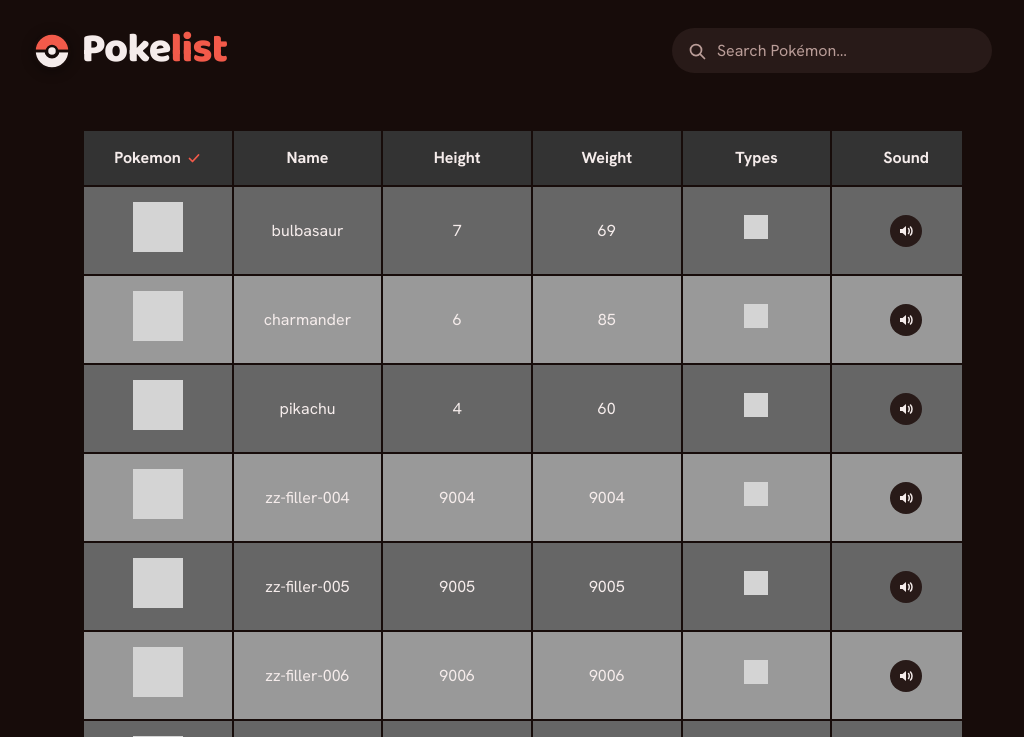
Test: App › renders no data rows when the search matches nothing
Type "nonexistent-pokemon" into the field named "Search Pokémon by name" at (832, 51), box [672,28,992,73]
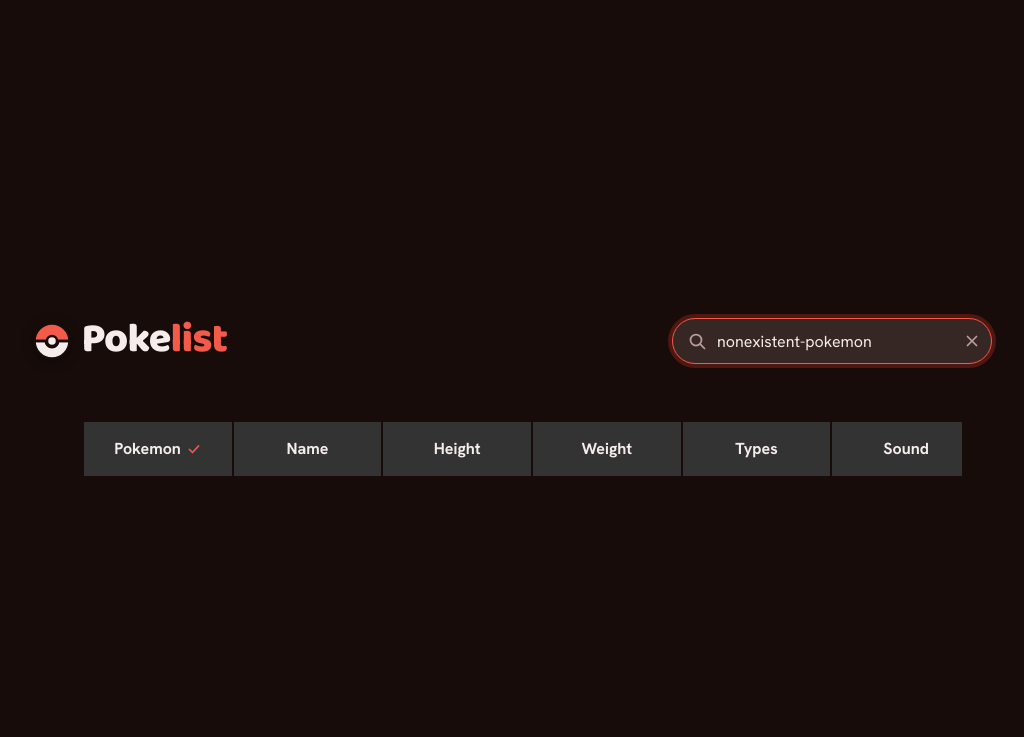
Expected: the number of rows is 1, [84,422,962,476]
